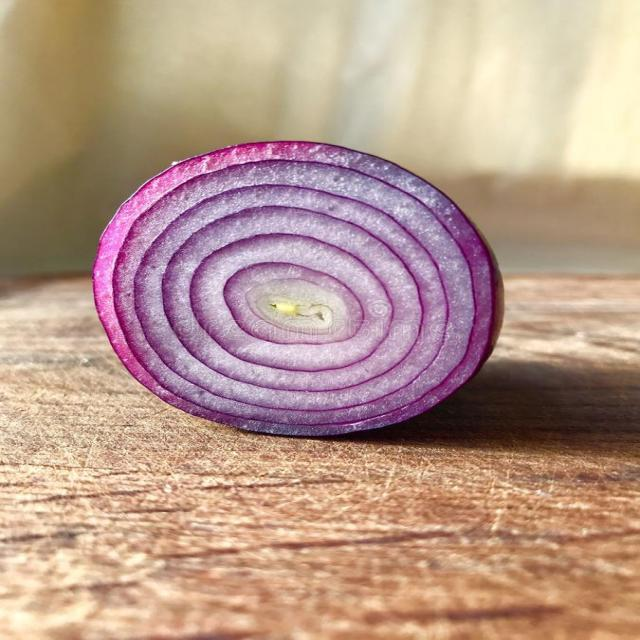onion: (99, 133, 508, 447)
